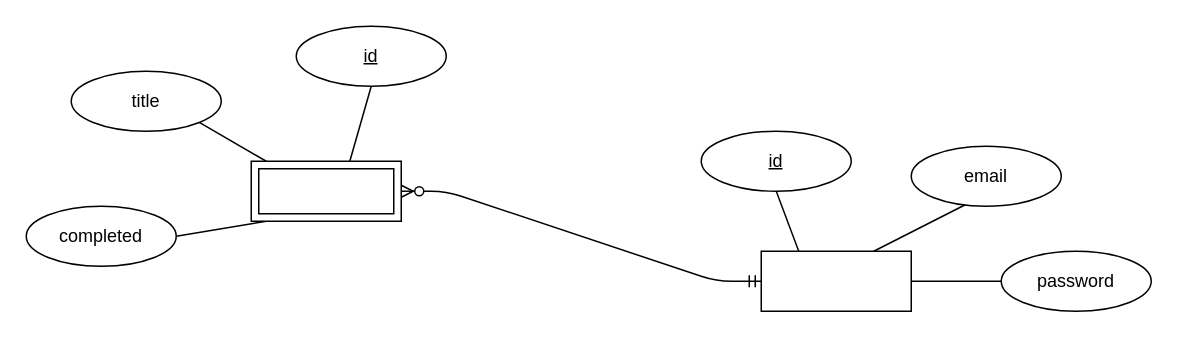
The diagram is 1178 pixels wide and 338 high, and some of its shapes have lost their labels. Each missing label, with the box of its shape:
Todo: (250, 160, 401, 221)
User: (760, 250, 911, 311)
